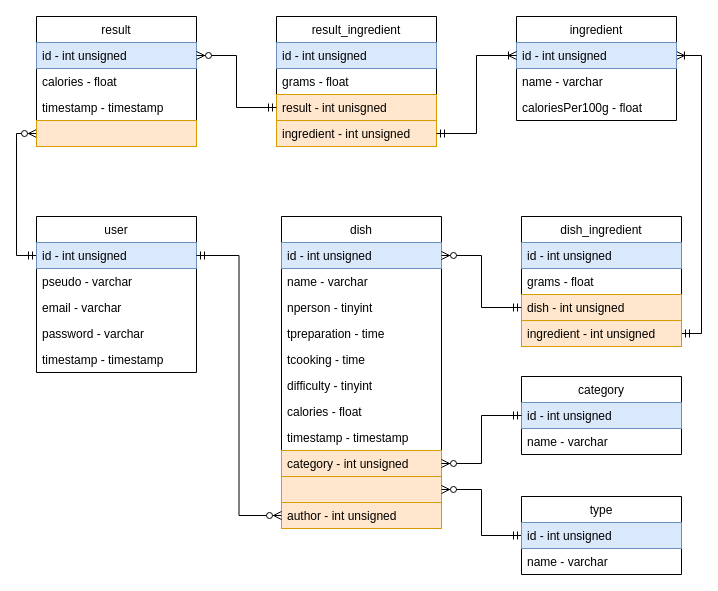
Image size: 718x591. Some labels were removed from this diagram. The shapes that lost their labels are listed below. From the top down, each one's centre as x and y in pixels, then its label:
pixel 116 133: user - int unsigned
pixel 361 489: type - int unsigned
